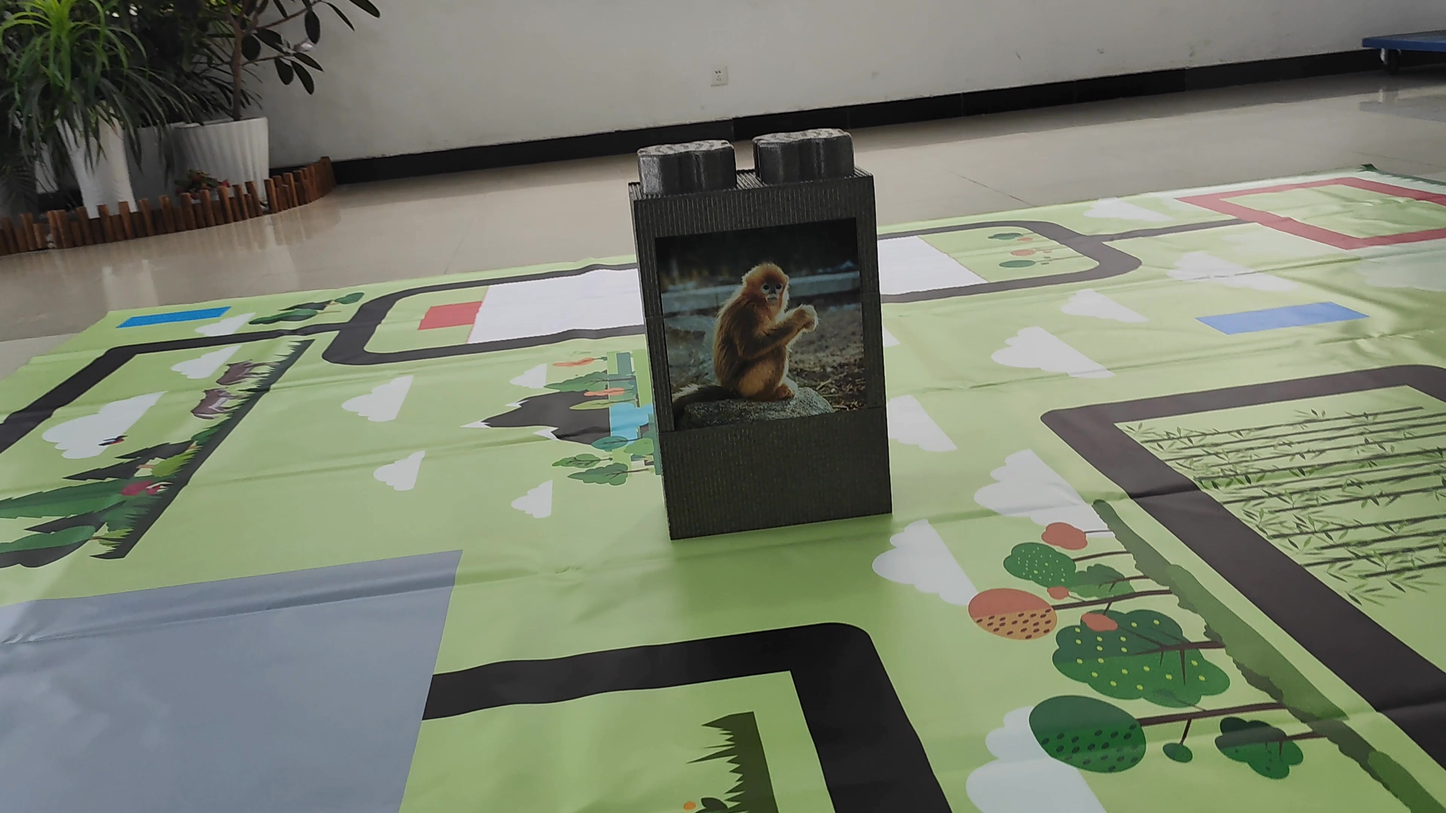monkey: (671, 245, 832, 425)
